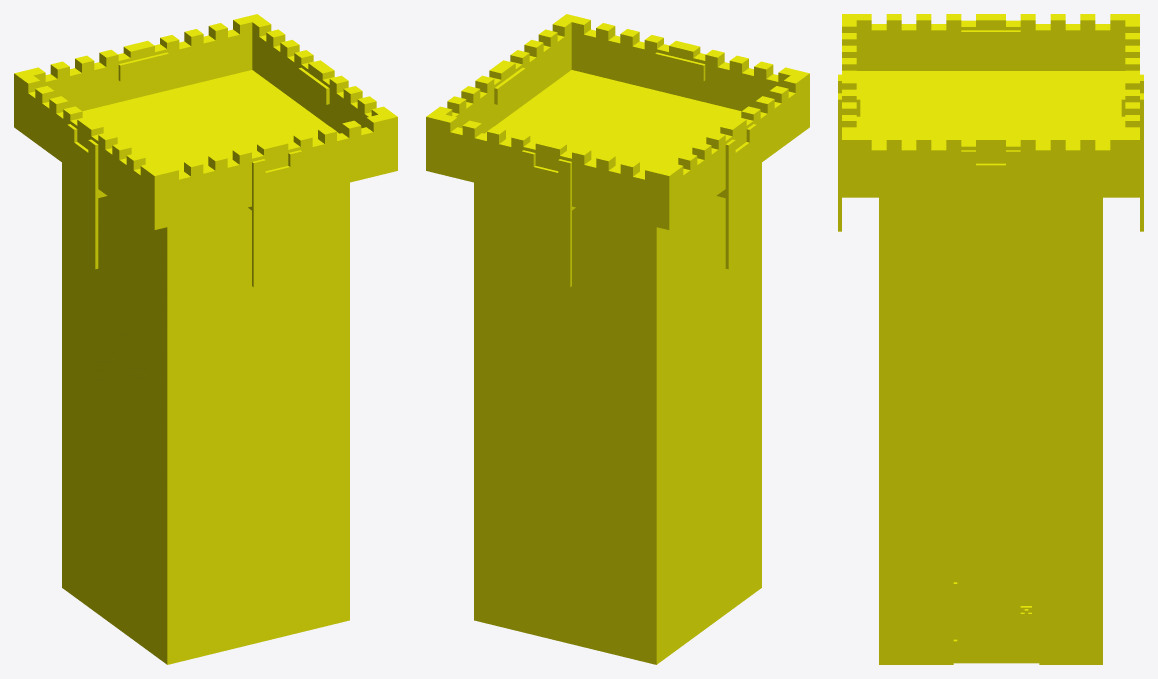
Rendered from voxel-knights-tower-with-door.glb.
3 views of the same model, side by side, from view 1: azimuth 30°, elevation 25°; view 2: azimuth 150°, elevation 25°; view 3: azimuth 270°, elevation 25° (orthographic). The views are drawn at different scales.
Visible parts, largest first — view 1: ObjObject.002; view 2: ObjObject.002; view 3: ObjObject.002.
Boxes of the visible parts, left/top/right/bottom form: ObjObject.002: left=14, top=14, right=397, bottom=664; ObjObject.002: left=426, top=14, right=809, bottom=664; ObjObject.002: left=838, top=14, right=1143, bottom=664.
Bounding box in the file's own units: 8.2 × 16 × 8.2.
